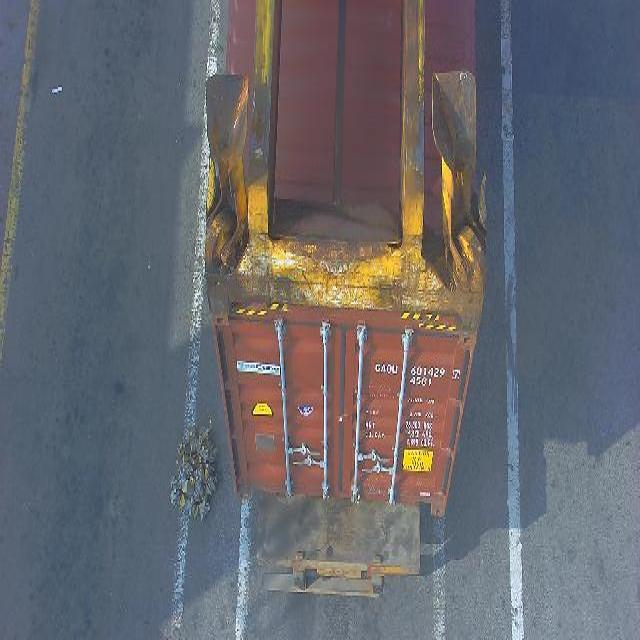ISO: (408, 377, 434, 390)
container_number: (372, 358, 462, 380)
